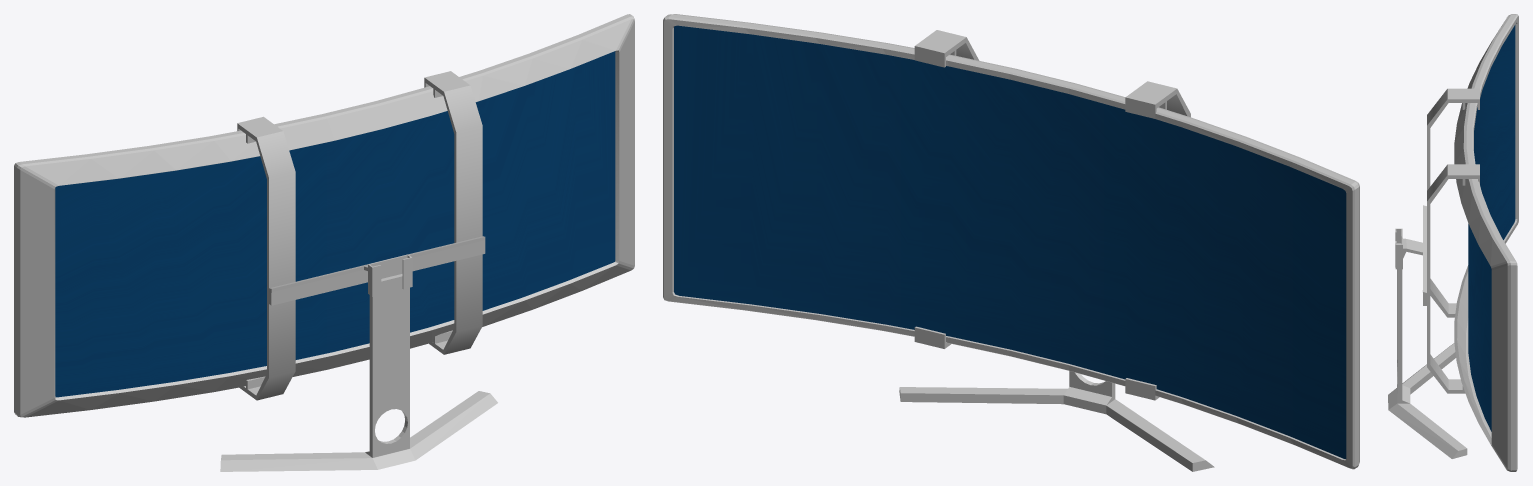
Rendered from Computer Screen.FBX.
3 views of the same model, side by side, from view 1: azimuth 30°, elevation 25°; view 2: azimuth 150°, elevation 25°; view 3: azimuth 270°, elevation 25° (orthographic). The views are drawn at different scales.
Visible parts, largest first — view 1: Screen02, Screen01; view 2: Screen02, Screen01; view 3: Screen01, Screen02.
Boxes of the visible parts, x1=… form: Screen02: x1=55, y1=51, x2=615, y2=397; Screen01: x1=14, y1=14, x2=634, y2=471; Screen02: x1=674, y1=25, x2=1346, y2=458; Screen01: x1=663, y1=14, x2=1359, y2=471; Screen01: x1=1388, y1=14, x2=1518, y2=471; Screen02: x1=1468, y1=25, x2=1515, y2=431.
Size of the model in its own units: 222 by 112 by 49.11.
